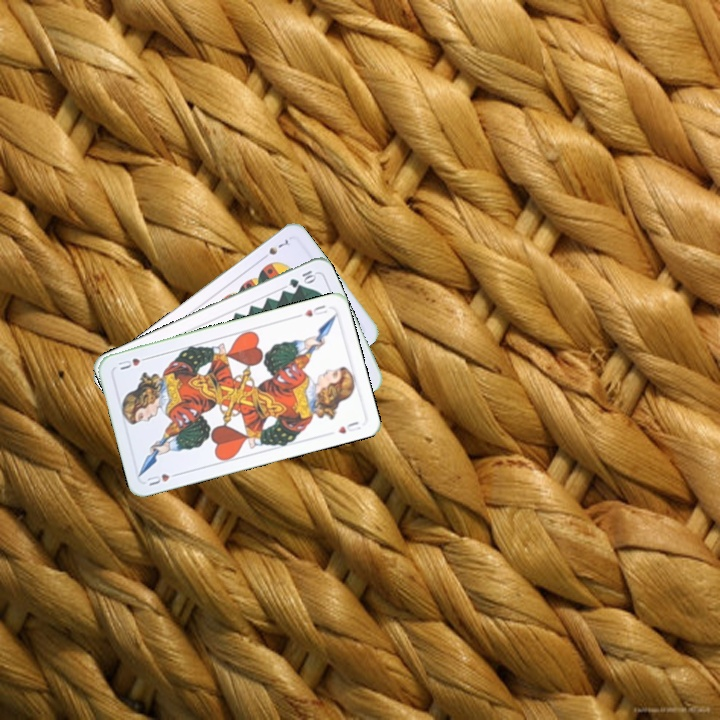G10: (285, 266, 319, 290)
HU: (143, 469, 182, 488), (293, 301, 330, 320)
S7: (257, 235, 291, 263)
